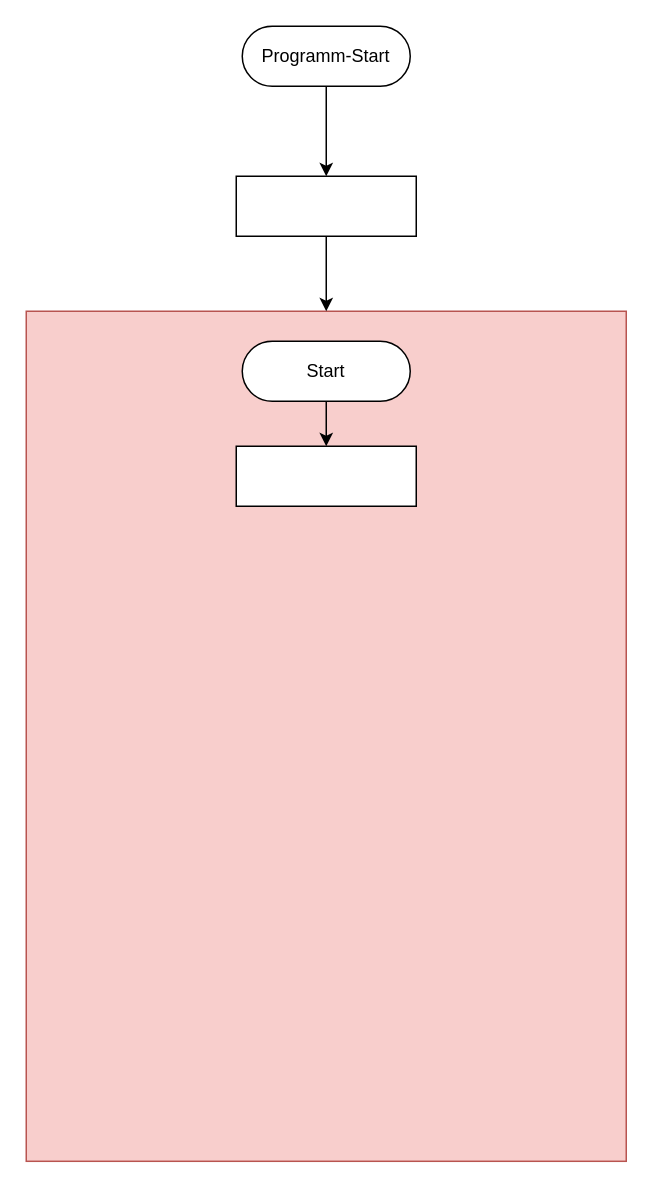
The diagram is 653 pixels wide and 1188 high, and some of its shapes have lost their labels. Each missing label, with the box of its shape:
Daten sammeln: (235, 175, 416, 236)
Nächsten Schüler lesen: (235, 445, 416, 506)
